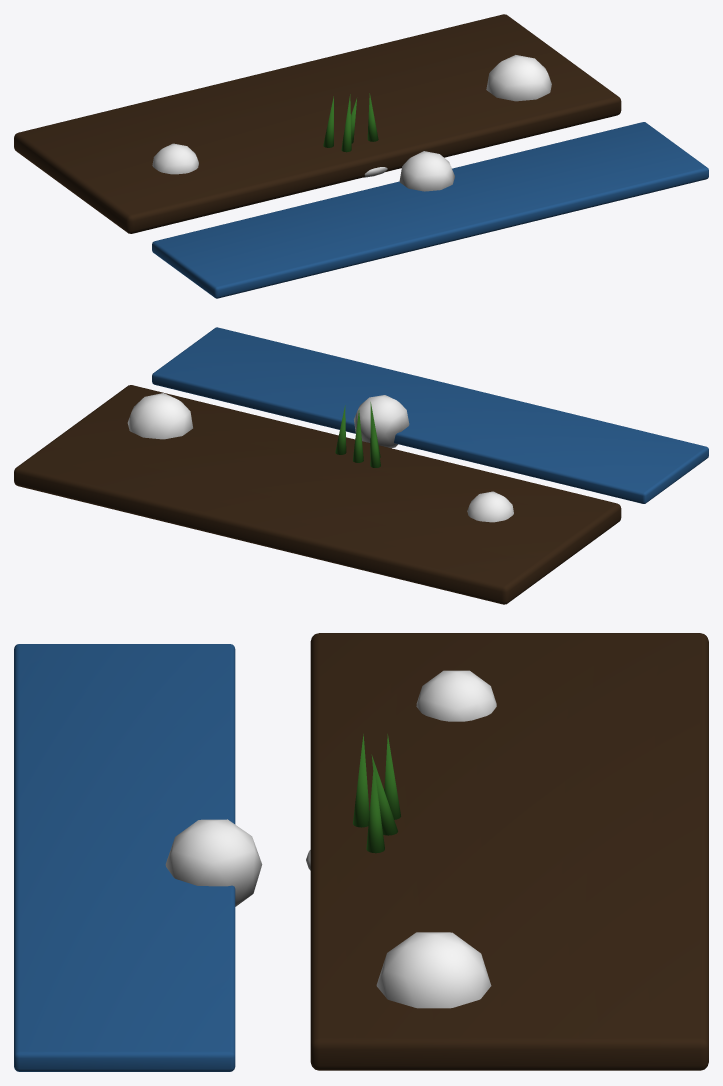
Rendered from stream-bank.obj.
3 views of the same model, one above another, from view 1: azimuth 30°, elevation 25°; view 2: azimuth 150°, elevation 25°; view 3: azimuth 270°, elevation 25° (orthographic). The views are drawn at different scales.
Parts seen in each view (by area): view 1: stream-bank; view 2: stream-bank; view 3: stream-bank.
Boxes of the visible parts, box(x1,y1,x2,y2) form: stream-bank: box(14, 14, 708, 298); stream-bank: box(14, 327, 708, 604); stream-bank: box(14, 633, 708, 1071).
Size of the model in its own units: 2.2 by 0.3721 by 1.57.
